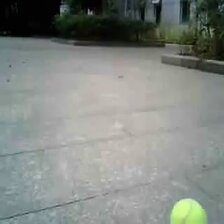tennis: (169, 198, 206, 224)
